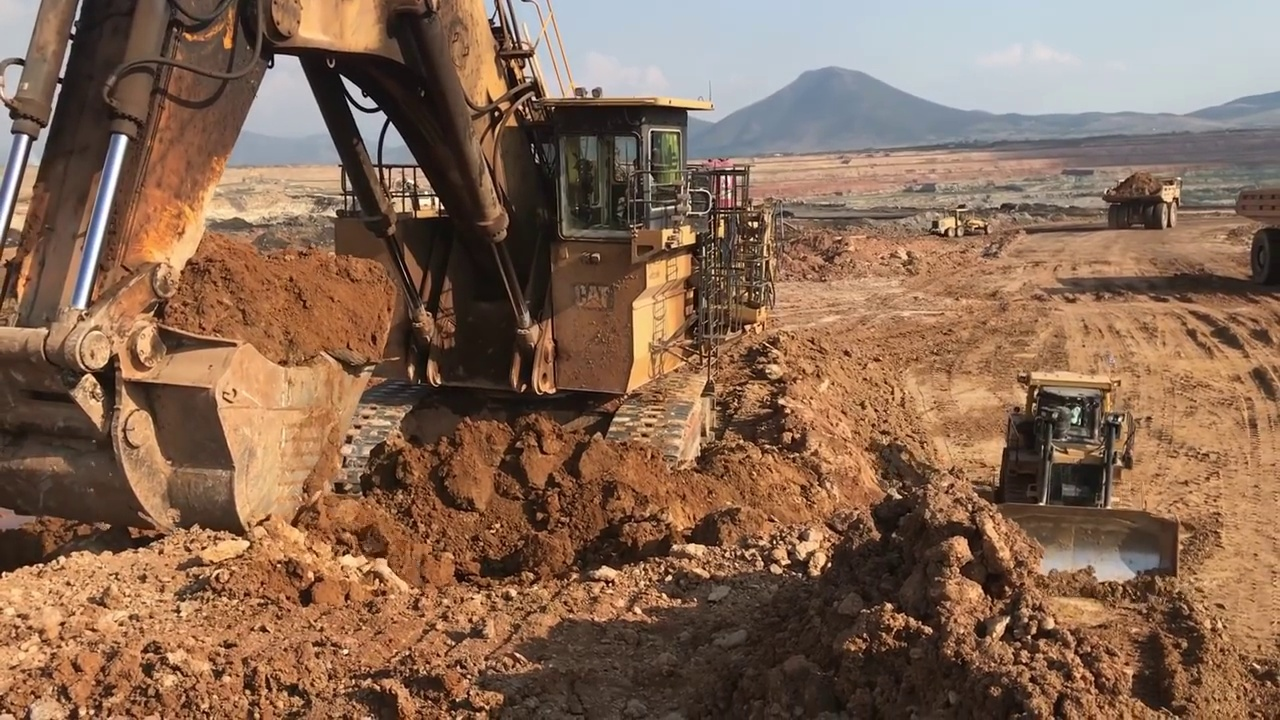bulldozer: (972, 366, 1185, 604)
dumper: (1101, 173, 1192, 228)
excavator: (1, 1, 779, 544)
